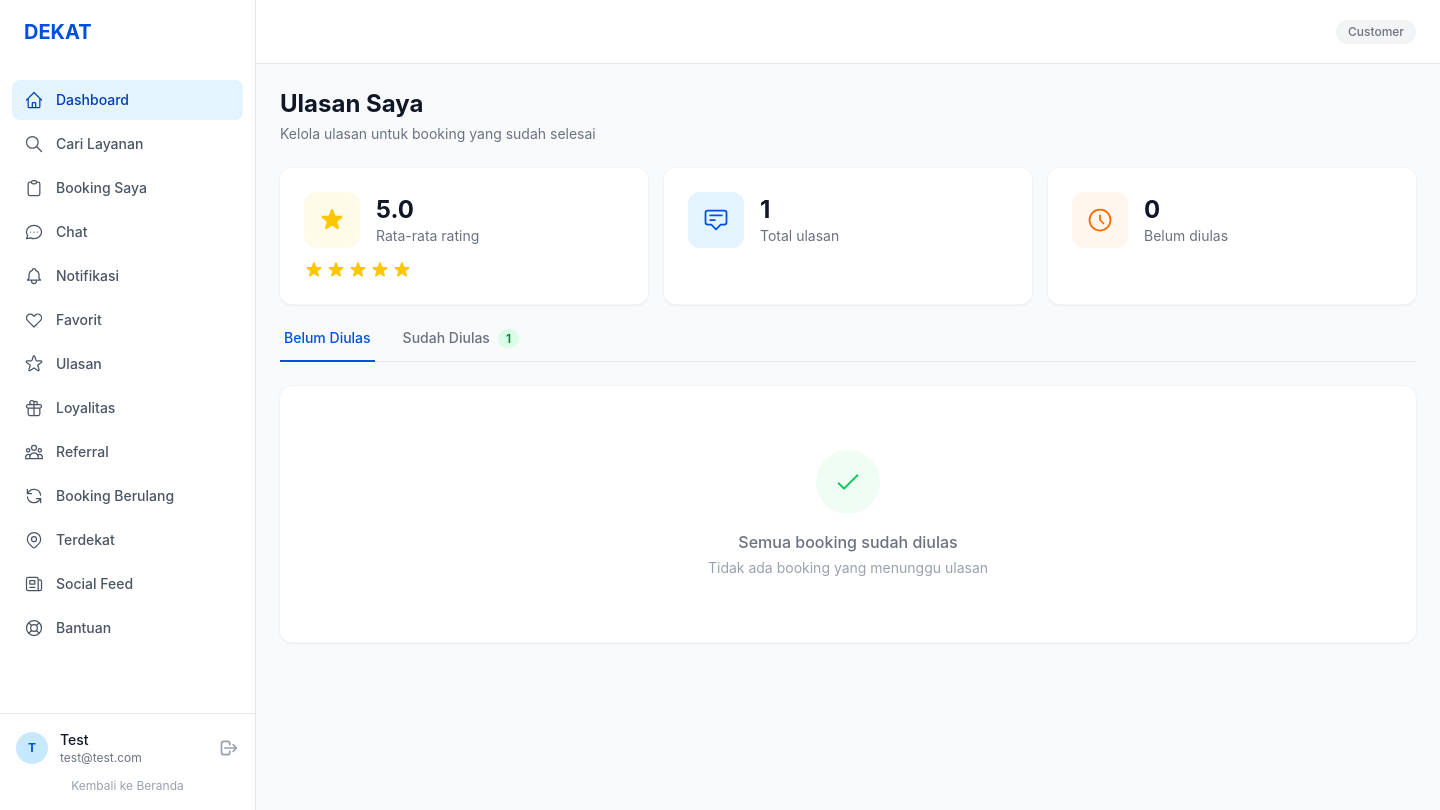
Scenario: CustomerReviewsPage › shows provider response in reviewed booking
Expected: the text "Semua booking sudah diulas" is shown, left=738, top=532, right=958, bottom=552
# Click Reviewed tab
Click the button "Sudah Diulas1" at (461, 345), box left=399, top=328, right=523, bottom=362
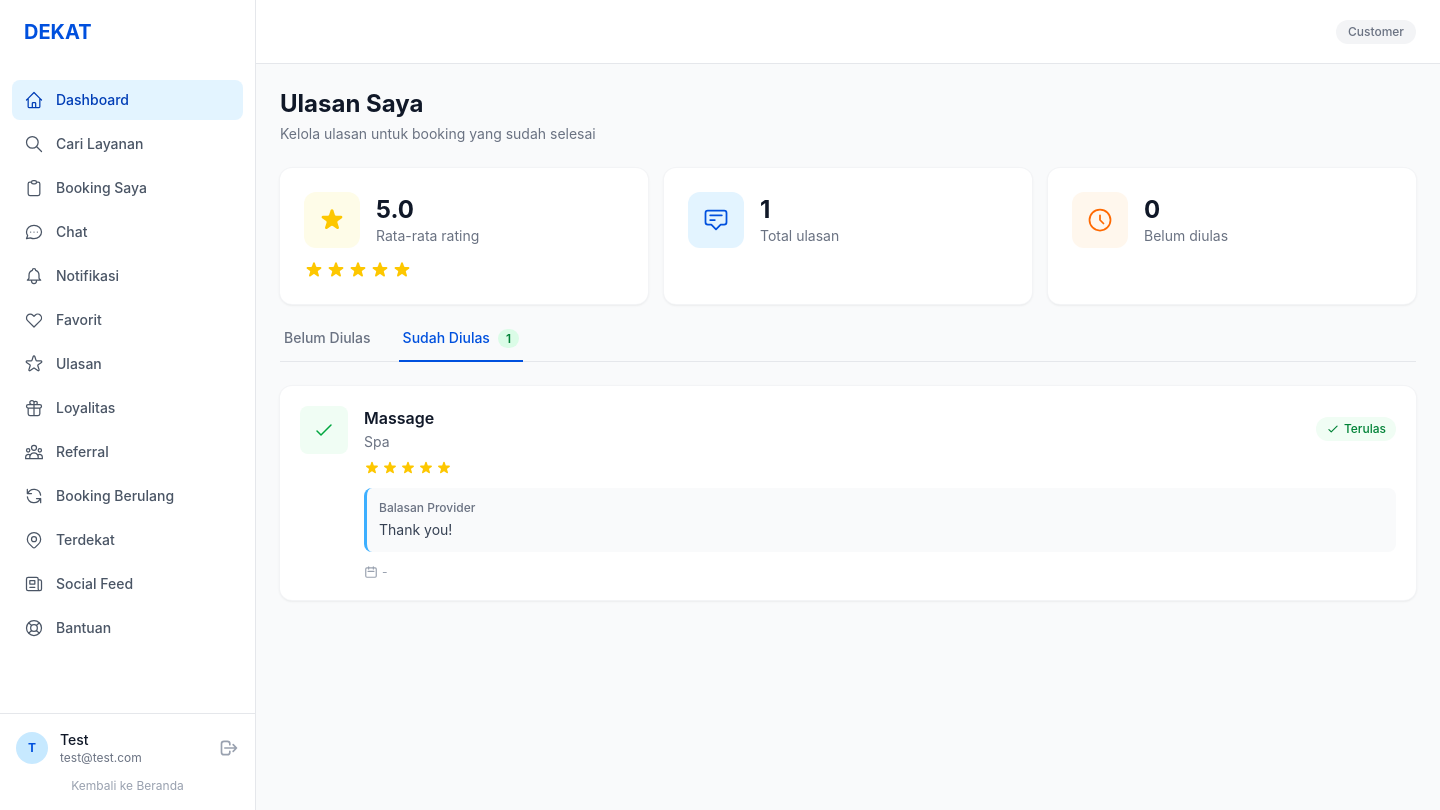
Result: the text "Massage" is shown at left=364, top=406, right=434, bottom=430
Result: the text "Thank you!" is shown at left=379, top=521, right=452, bottom=538
Result: the text "Balasan Provider" is shown at left=379, top=500, right=475, bottom=515
